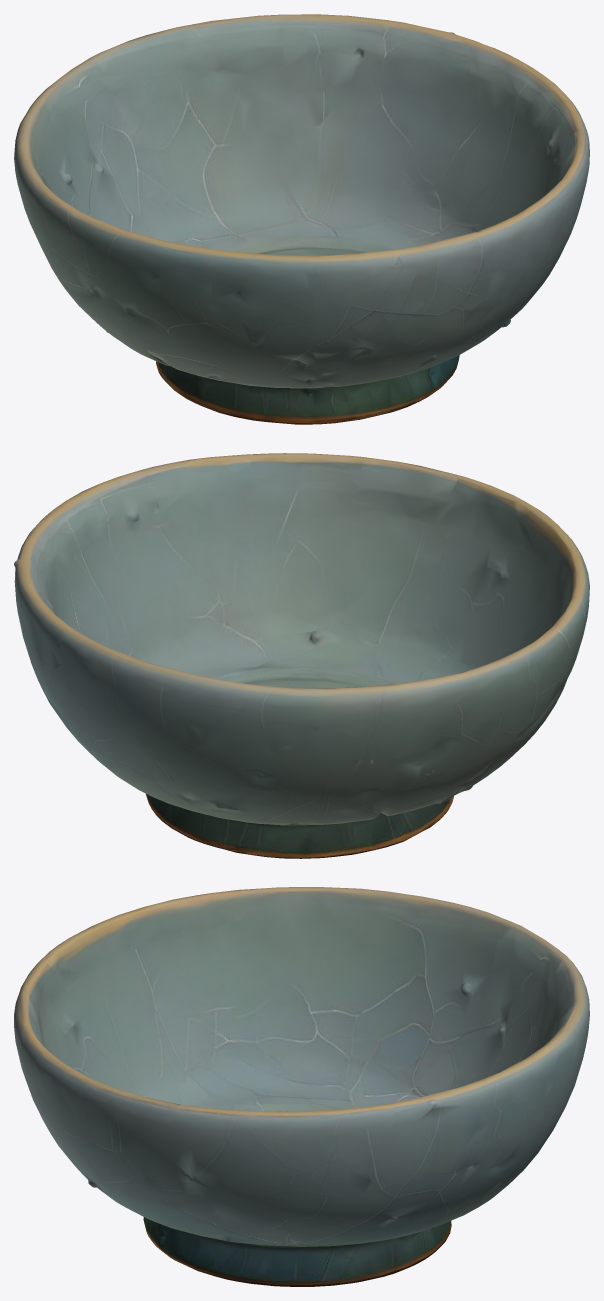
Rendered from bowl_jade.glb.
3 views of the same model, one above another, from view 1: azimuth 30°, elevation 25°; view 2: azimuth 150°, elevation 25°; view 3: azimuth 270°, elevation 25° (orthographic).
Parts seen in each view (by area): view 1: tripo_node_b9e3aa66-1395-458c-ba15-1611c955ec3c; view 2: tripo_node_b9e3aa66-1395-458c-ba15-1611c955ec3c; view 3: tripo_node_b9e3aa66-1395-458c-ba15-1611c955ec3c.
Part boxes in pixels (<box>): tripo_node_b9e3aa66-1395-458c-ba15-1611c955ec3c: <box>14,14,589,424</box>; tripo_node_b9e3aa66-1395-458c-ba15-1611c955ec3c: <box>14,453,589,858</box>; tripo_node_b9e3aa66-1395-458c-ba15-1611c955ec3c: <box>14,887,589,1286</box>.
Size of the model in its own units: 0.9971 by 0.4444 by 0.9993.
1 material, 1 textured.
